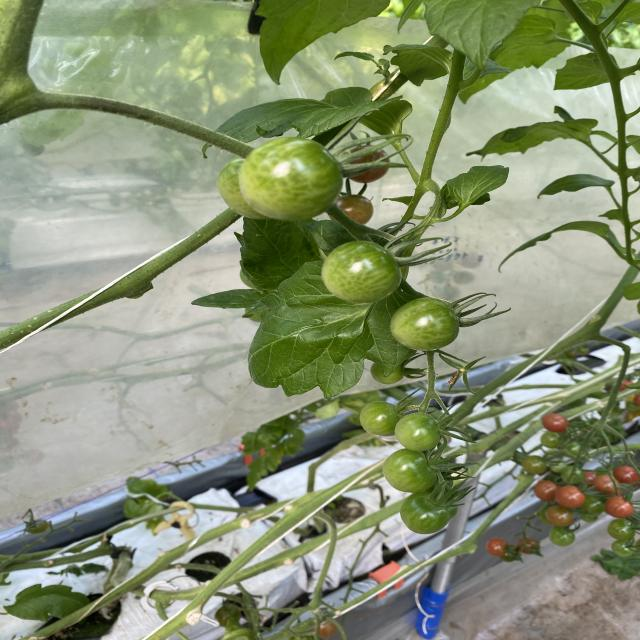yesil: (239, 122, 476, 538)
